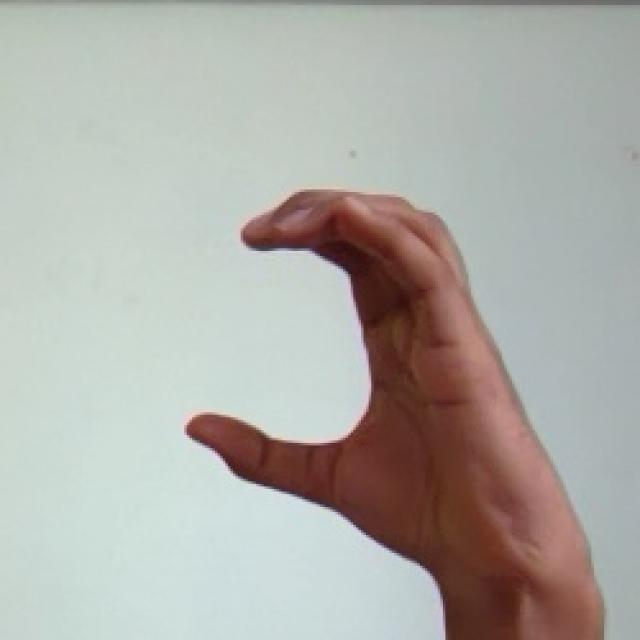Alphabet-C: (187, 192, 604, 640)
